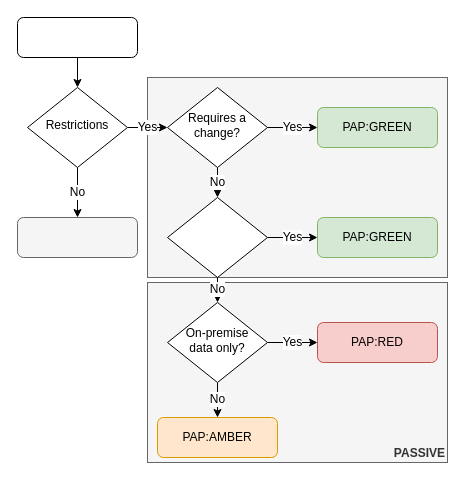
Image size: 465x480. Some labels were removed from this diagram. The shapes that lost their labels are listed below. From the top down, each one's box as (x1, y1, x2, y2) in pixels, then its label:
(16, 16, 138, 58): Threat data Threat intelligence
(146, 76, 448, 278): ACTIVE
(16, 216, 138, 258): PAP:WHITE
(166, 196, 268, 278): Interaction with adversary?
